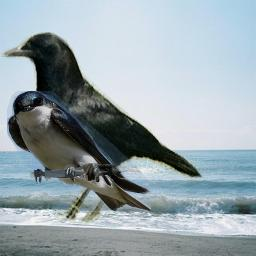Crow: (1, 32, 203, 222)
Swallow: (7, 91, 151, 212)
